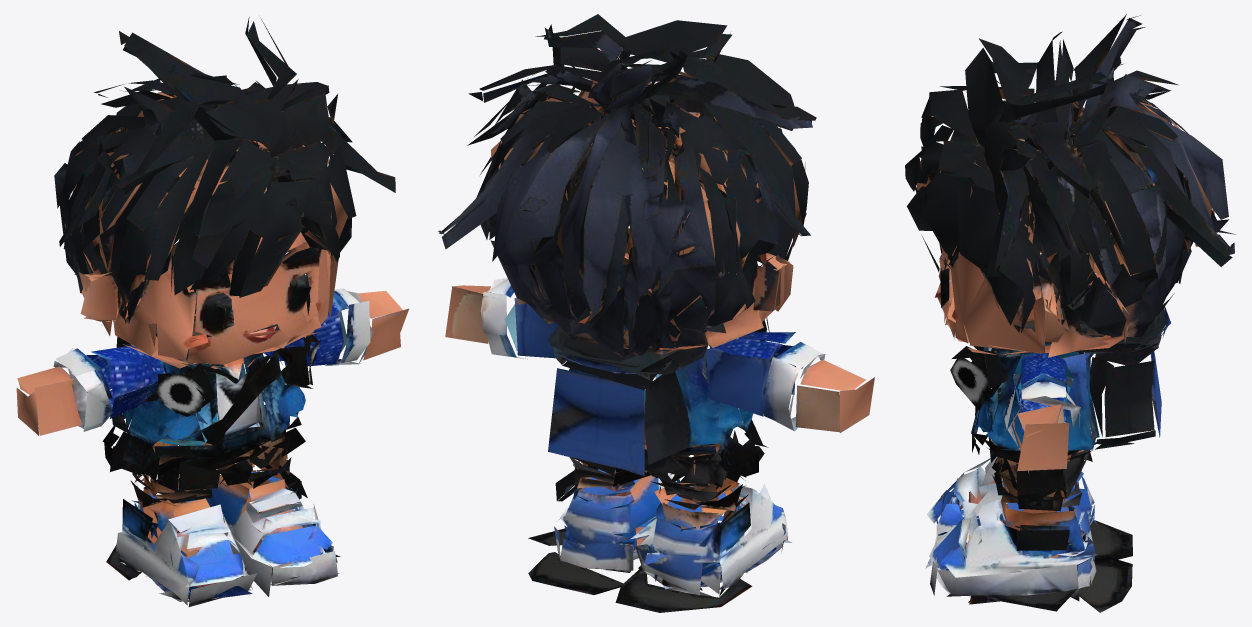
Rendered from kai_game.glb.
3 views of the same model, side by side, from view 1: azimuth 30°, elevation 25°; view 2: azimuth 150°, elevation 25°; view 3: azimuth 270°, elevation 25° (orthographic). The views are drawn at different scales.
Parts seen in each view (by area): view 1: Body; view 2: Body; view 3: Body.
Part boxes in pixels (<box>): Body: <box>16,17,408,606</box>; Body: <box>438,14,874,612</box>; Body: <box>905,14,1235,612</box>.
Bounding box in the file's own units: 0.5564 × 0.7308 × 0.4076.
1 material, 1 textured.
